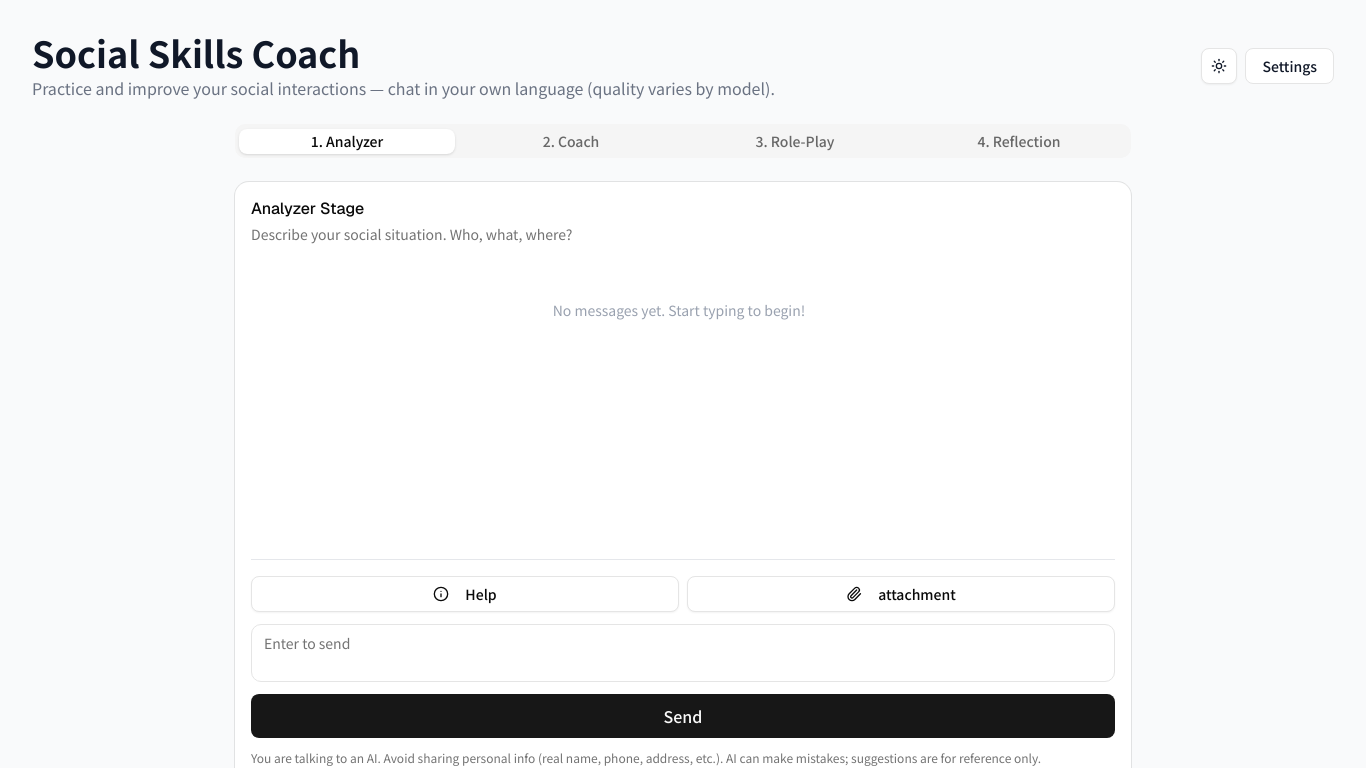
Page › handles fetch with no reader
The width and height of the screenshot is (1366, 768).
In the text box with placeholder "Enter to send": [683, 653] box [251,624,1115,682], type "test no reader"
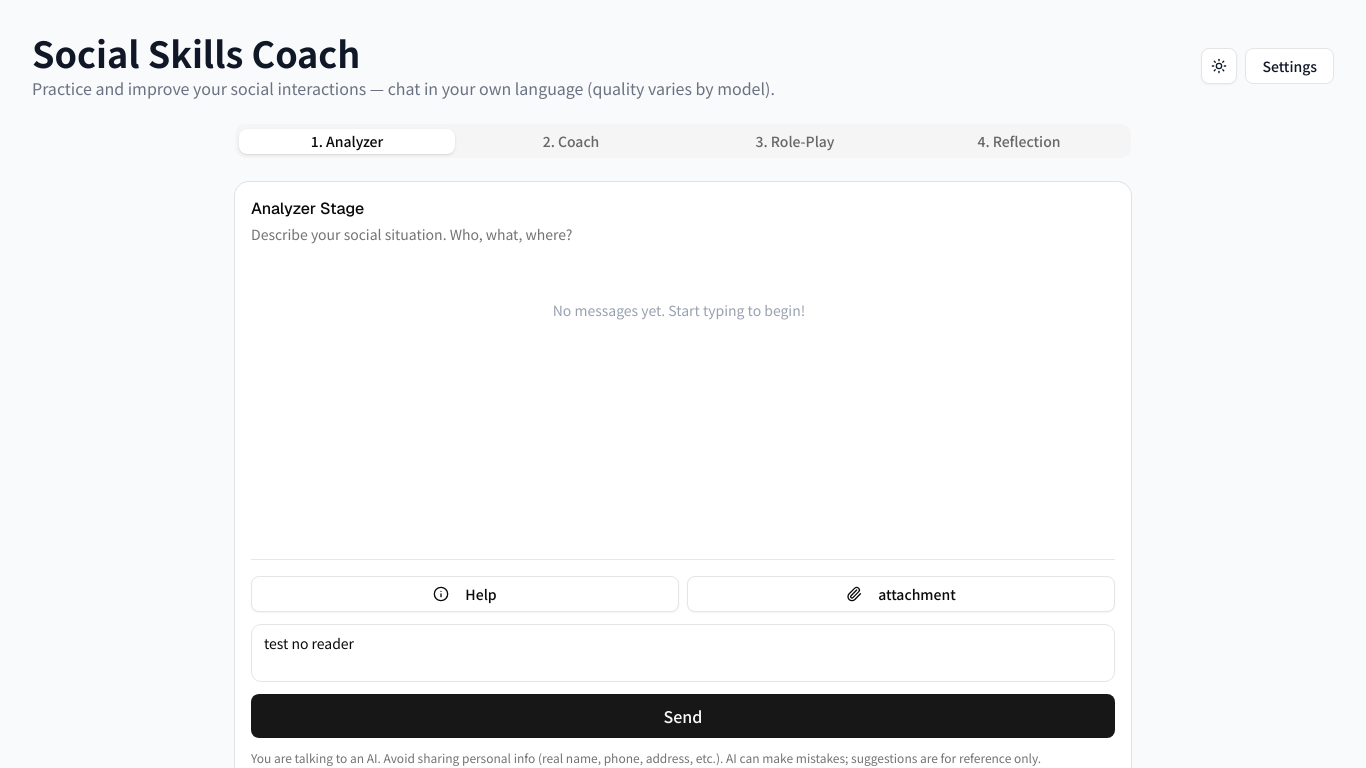
Submit the form with placeholder "Enter to send", box [251,576,1115,766]
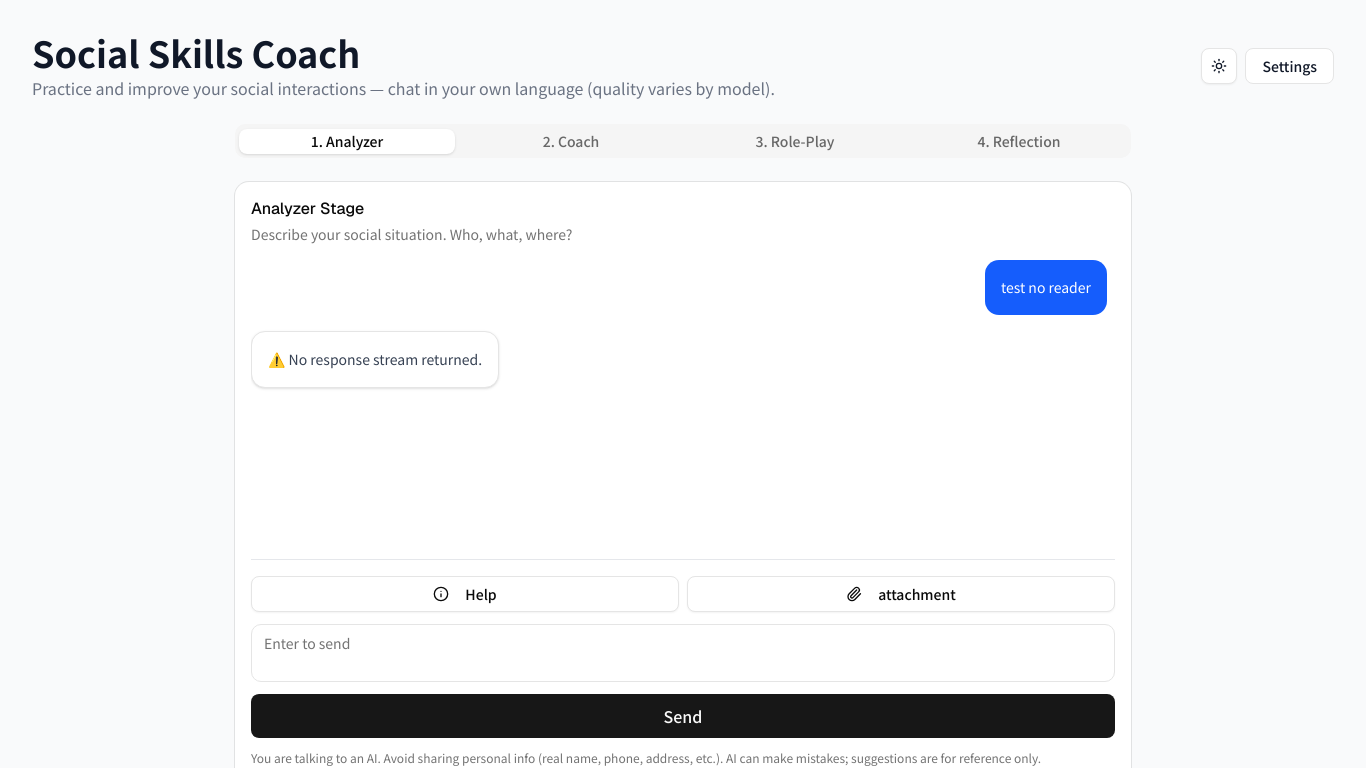
Check: the text "test no reader" is shown, box [1001,276,1091,299]
